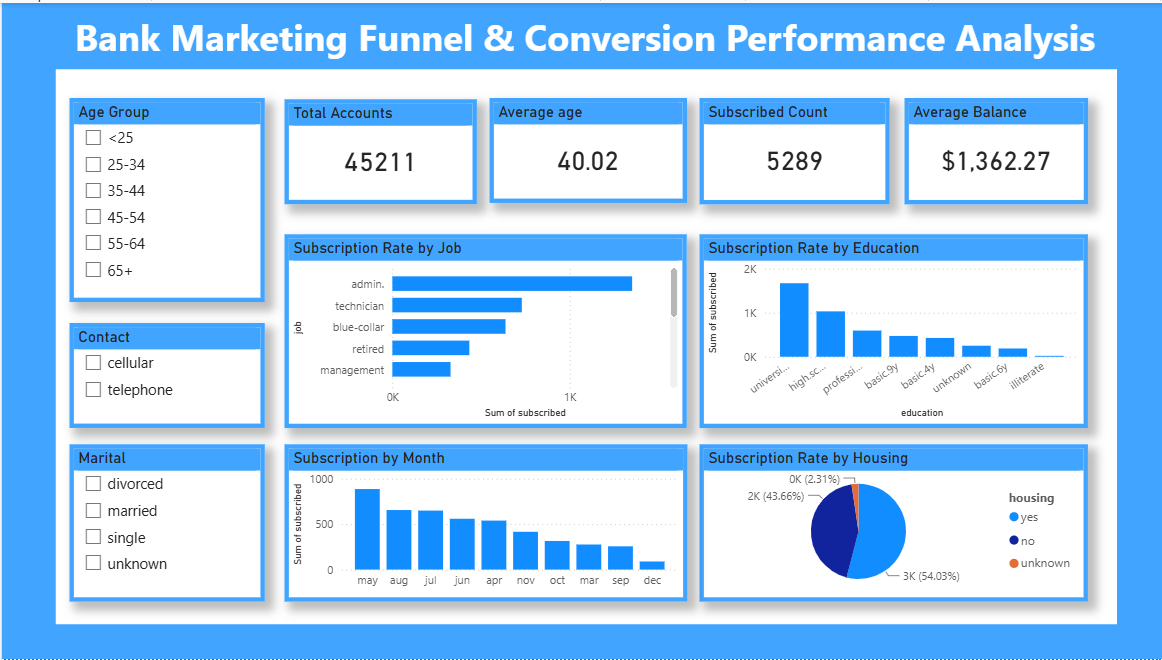

Layout of this report page (visuals, bound fields, positions):
{"tool":"powerbi","page":{"name":"Page 1","canvas":[1280,720],"ordinal":0},"visuals":[{"type":"card","title":"Total Accounts","fields":{"Values":["Sum(Summary_ByAgeGroup.Total)"]},"box":[310.1,105.7,211.3,115.3],"z":0},{"type":"card","title":"Average age","fields":{"Values":["Avg(BankAdditional_Full.age)"]},"box":[535.2,104.3,216.8,115.3],"z":1000},{"type":"card","title":"Subscribed Count","fields":{"Values":["Sum(Summary_ByAgeGroup.Subscribed)"]},"box":[765.7,104.3,208.6,116.6],"z":2000},{"type":"card","title":"Average Balance","fields":{"Values":["Avg(BankMarketing_Full.balance)"]},"box":[990.7,104.3,201.7,116.6],"z":3000},{"type":"slicer","title":"Age Group","fields":{"Values":["Summary_ByAgeGroup.age_group"]},"box":[74.1,104.3,214.1,223.7],"z":4000},{"type":"barChart","title":"Subscription Rate by Job","fields":{"Y":["Sum(BankAdditional_Full.subscribed)"],"Category":["BankAdditional_Full.job"]},"box":[310.1,253.9,441.9,212.7],"z":5000},{"type":"clusteredColumnChart","title":" Subscription Rate by Education","fields":{"Y":["Sum(BankAdditional_Full.subscribed)"],"Category":["BankAdditional_Full.education"]},"box":[765.7,253.9,426.8,212.7],"z":6000},{"type":"shape","box":[0,682,1280.3,38.4],"z":7000},{"type":"shape","box":[0,0,1280.3,72.7],"z":8000},{"type":"shape","box":[0,0,59,720.4],"z":9000},{"type":"shape","box":[1224,0,56.3,720.4],"z":10000},{"type":"slicer","title":"Contact","fields":{"Values":["BankAdditional_Full.contact"]},"box":[74.1,351.3,214.1,115.3],"z":11000},{"type":"pieChart","title":"Subscription Rate by Housing","fields":{"Category":["BankAdditional_Full.housing"],"Y":["Sum(BankAdditional_Full.subscribed)"]},"box":[765.7,484.4,426.8,172.9],"z":12000},{"type":"slicer","title":"Marital","fields":{"Values":["BankAdditional_Full.marital"]},"box":[74.1,484.4,214.1,172.9],"z":13000},{"type":"clusteredColumnChart","title":"Subscription by Month","fields":{"Y":["Sum(BankAdditional_Full.subscribed)"],"Category":["BankAdditional_Full.month"]},"box":[310,484,442,173],"z":14000}]}

Visuals, with their boxes in screenshot pixels (x1, y1, x2, y2), scaled from the page's 1280x720 canvas onto the 1162x660 screenshot:
"Total Accounts" card: 282 97 473 203
"Average age" card: 486 96 683 201
"Subscribed Count" card: 695 96 884 202
"Average Balance" card: 899 96 1082 202
"Age Group" slicer: 67 96 262 301
"Subscription Rate by Job" barChart: 282 233 683 428
" Subscription Rate by Education" clusteredColumnChart: 695 233 1083 428
shape: 0 625 1161 659
shape: 0 0 1161 67
shape: 0 0 54 659
shape: 1111 0 1161 659
"Contact" slicer: 67 322 262 428
"Subscription Rate by Housing" pieChart: 695 444 1083 603
"Marital" slicer: 67 444 262 603
"Subscription by Month" clusteredColumnChart: 281 444 683 602
